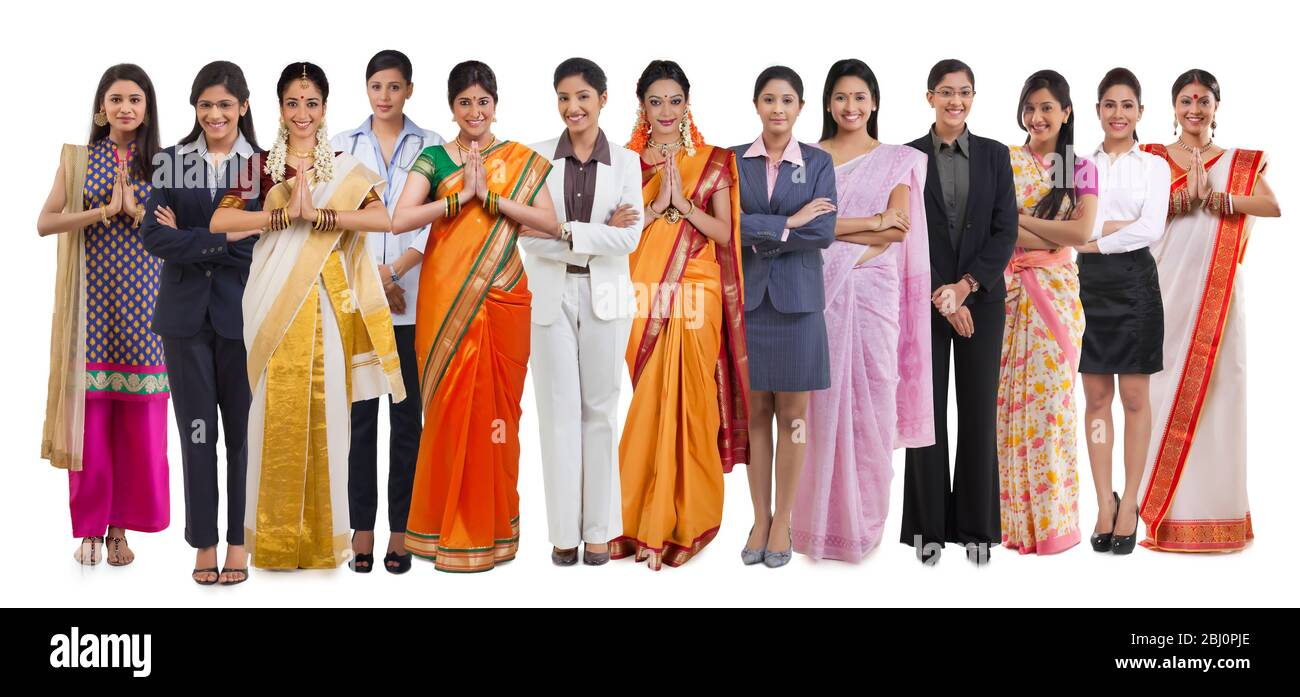women: (821, 49, 886, 160), (634, 51, 698, 163), (183, 57, 260, 150), (907, 55, 986, 144), (1012, 62, 1080, 165), (273, 56, 337, 165), (440, 56, 505, 162), (542, 52, 612, 148), (354, 42, 419, 144), (1168, 60, 1238, 152), (92, 60, 166, 145), (741, 63, 809, 144), (1092, 60, 1152, 149)
